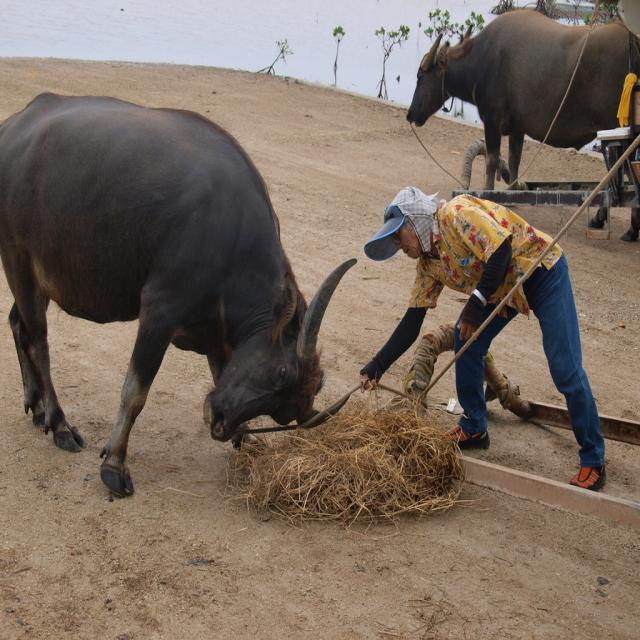Cattle: (0, 91, 358, 496), (406, 8, 640, 242)
